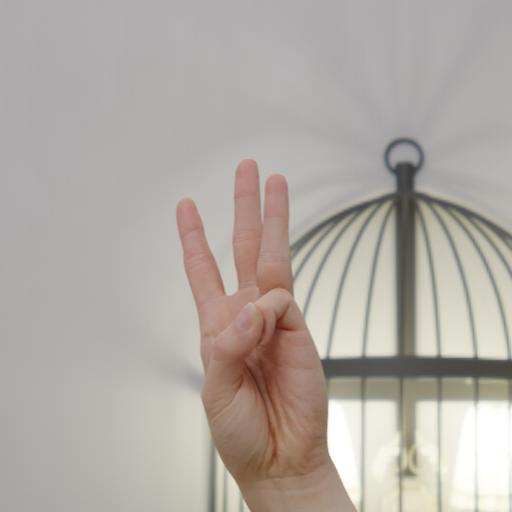W: (153, 153, 342, 478)
